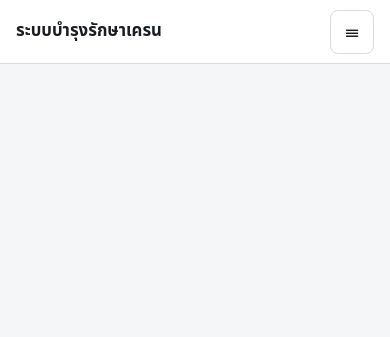
Scenario: NavBar mobile navigation › starts collapsed and expands the Thai menu when the toggle is tapped
Click the button named "เปิดเมนู". click: (352,32)
box: [330, 10, 374, 54]
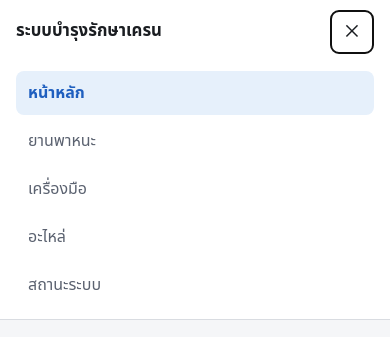
Expected: the button named "ปิดเมนู" is expanded, [330, 10, 374, 54]
